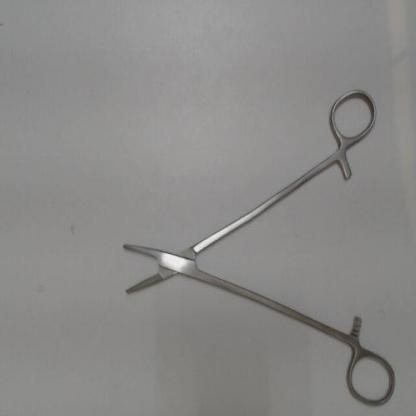8 Mayo Needle Holder: (113, 80, 403, 413)
